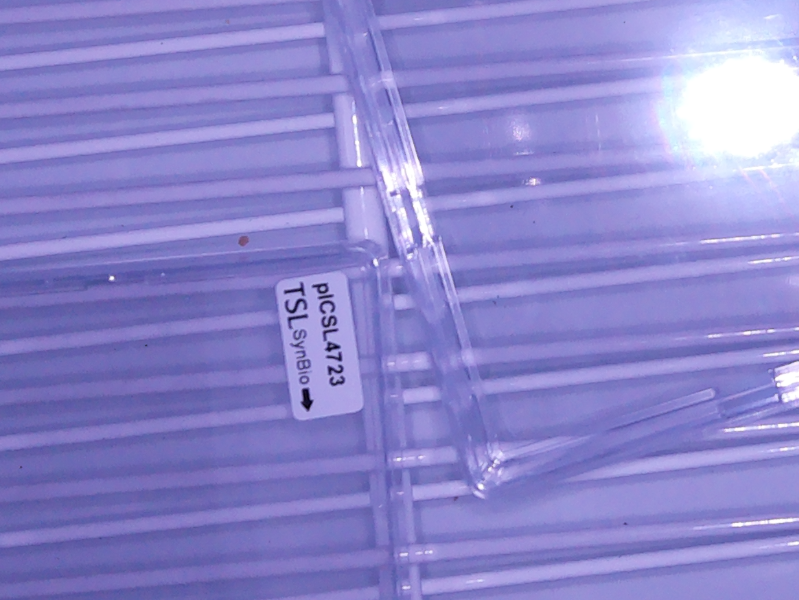plate: (338, 1, 799, 501), (1, 236, 400, 600)
